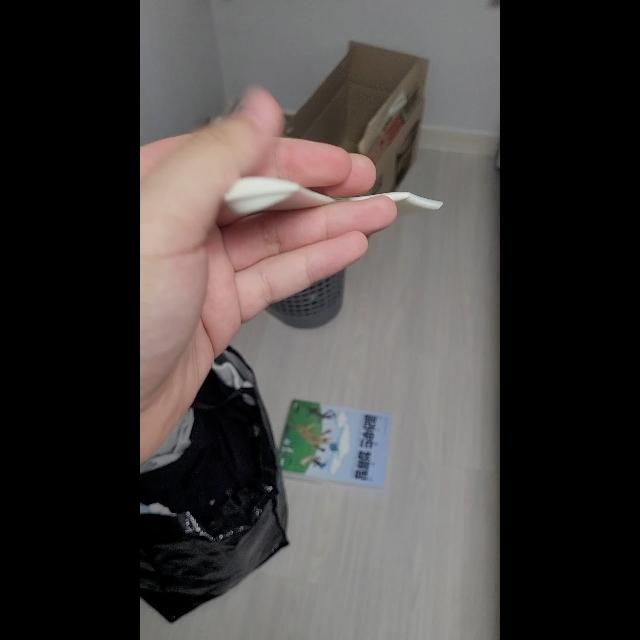COMB: (221, 177, 443, 216)
